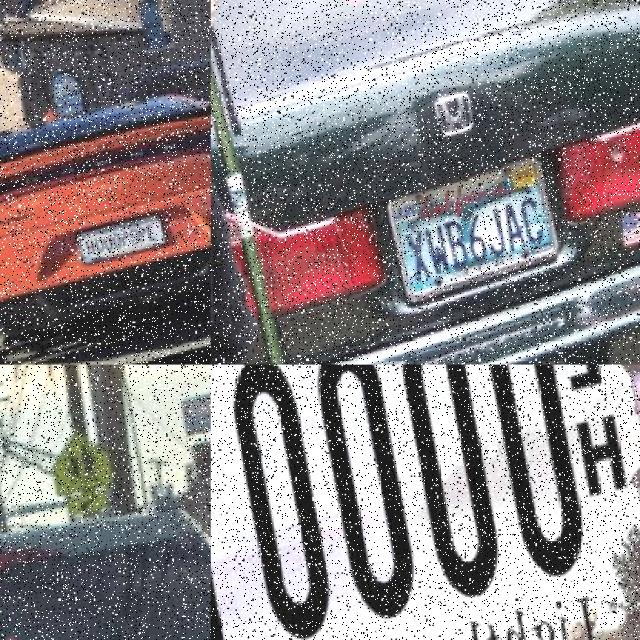licenseplate: (211, 364, 637, 640), (384, 158, 573, 298), (83, 210, 175, 265)
